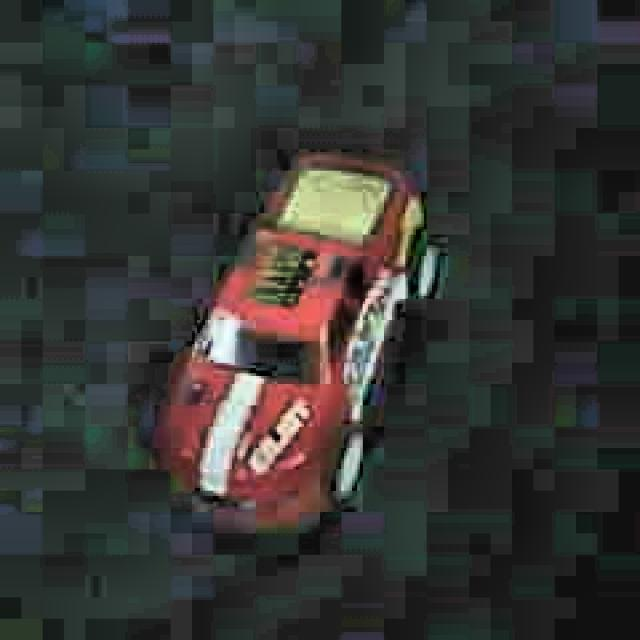car: (147, 142, 446, 538)
